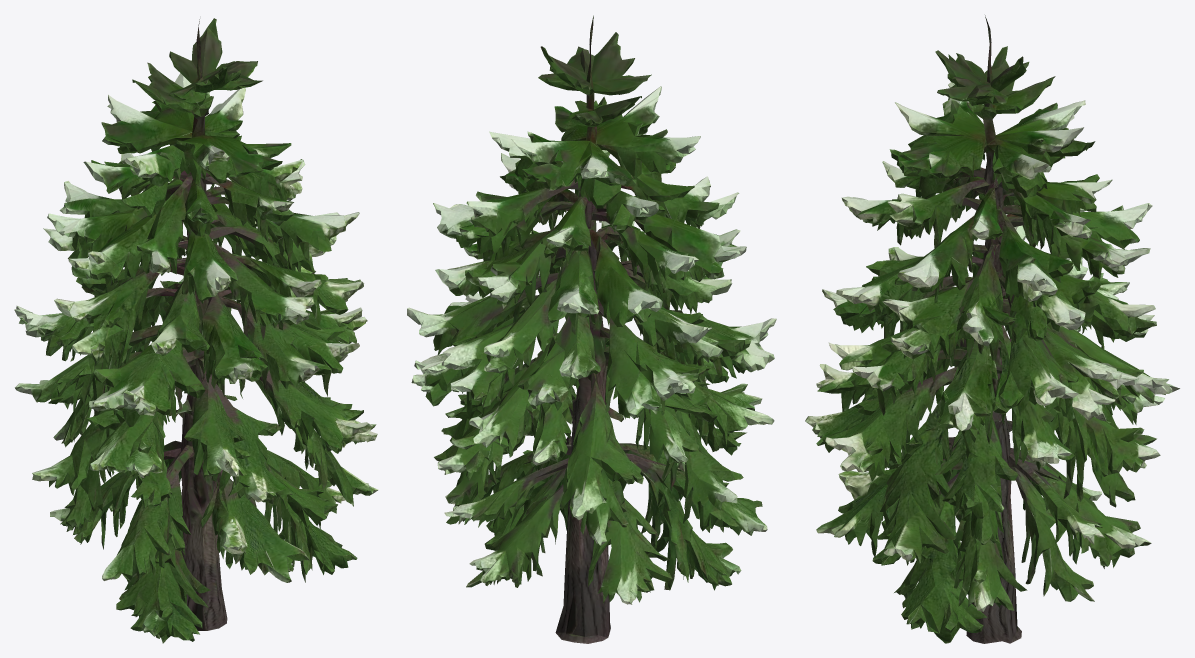
File: spruce_detailed.glb
The picture shows the model from 3 angles, left to right: view 1: azimuth 30°, elevation 25°; view 2: azimuth 150°, elevation 25°; view 3: azimuth 270°, elevation 25°; orthographic projection.
Size of the model in its own units: 0.9426 by 1.76 by 0.9723.
1 material, 1 textured.
